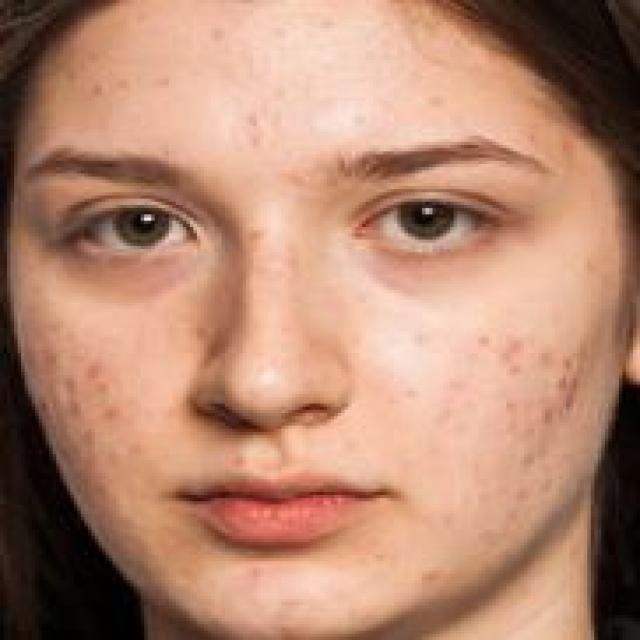Pimples: (556, 353, 584, 419), (496, 334, 524, 378), (471, 331, 489, 353), (418, 568, 444, 580)
